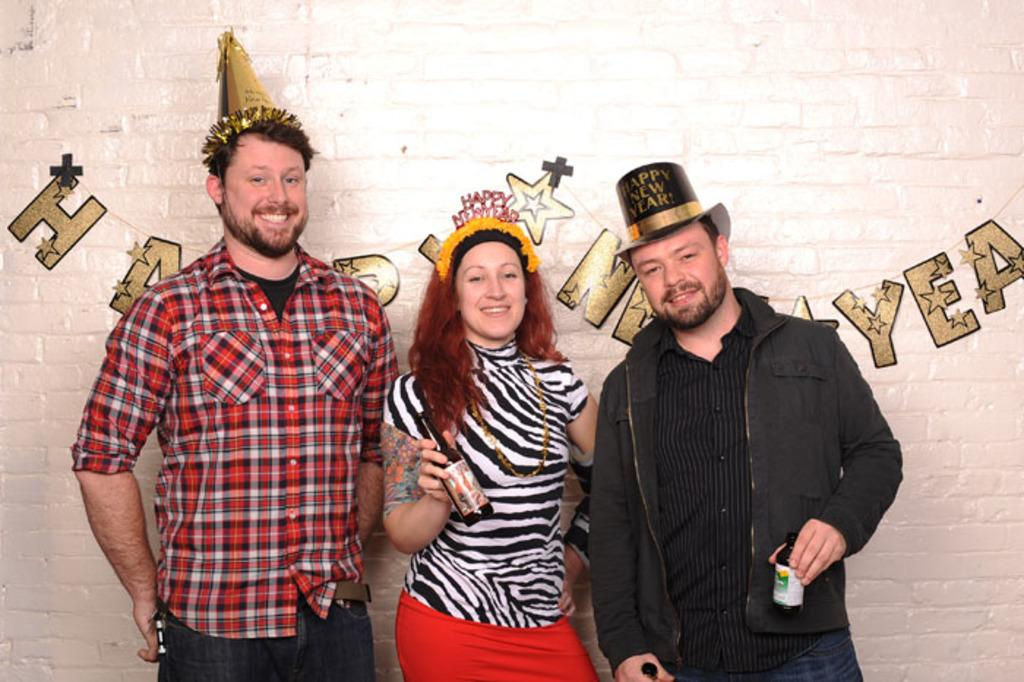Hat: (612, 162, 730, 266)
